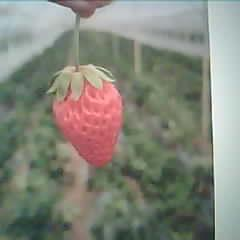straw-ripe: (52, 70, 122, 167)
